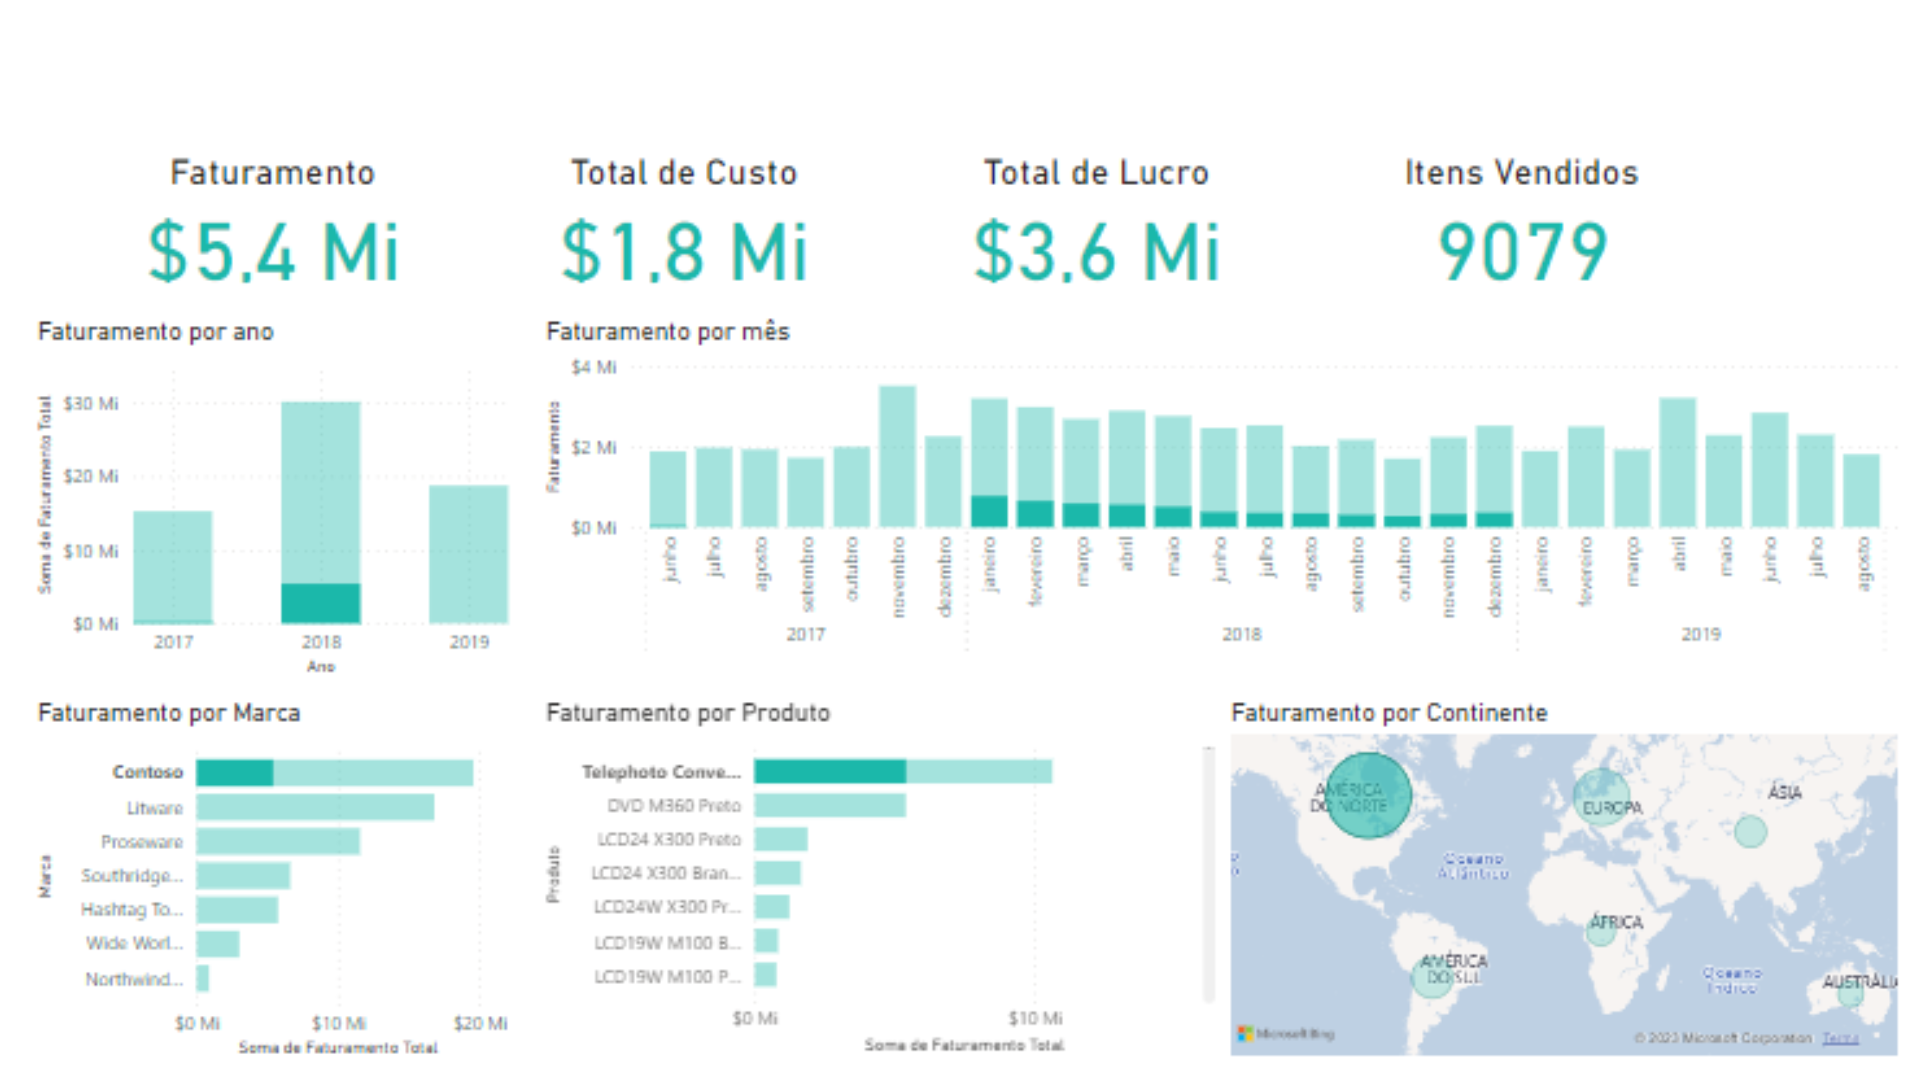

What the dashboard file says about the page in this screenshot:
{"tool":"powerbi","page":{"name":"Página 1","canvas":[1280,720],"ordinal":0},"visuals":[{"type":"card","title":"Faturamento","fields":{"Values":["Sum(Planilha1.Faturamento Total)"]},"box":[106.7,81.7,216.7,95],"z":0},{"type":"card","title":"Total de Custo","fields":{"Values":["Sum(Planilha1.Custo Total)"]},"box":[404.5,84.1,223.9,94.3],"z":1000},{"type":"card","title":"Total de Lucro","fields":{"Values":["Sum(Planilha1.Lucro Total)"]},"box":[716,84,226,94],"z":2000},{"type":"card","title":"Itens Vendidos","fields":{"Values":["Sum(Planilha1.Quantidade Vendida)"]},"box":[1020,83.3,226.7,93.3],"z":3000},{"type":"columnChart","title":"Faturamento por mês","fields":{"Y":["Sum(Planilha1.Faturamento Total)"],"Category":["Planilha1.Data da Venda.Variation.Hierarquia de datas.Ano","Planilha1.Data da Venda.Variation.Hierarquia de datas.Mês"]},"box":[401.1,210.2,845.5,263.6],"z":4000},{"type":"columnChart","title":"Faturamento por ano","fields":{"Category":["Planilha1.Data da Venda.Variation.Hierarquia de datas.Ano"],"Y":["Sum(Planilha1.Faturamento Total)"]},"box":[39.8,210.2,325,244.3],"z":5000},{"type":"barChart","title":"Faturamento por Marca","fields":{"Category":["Planilha1.Marca"],"Y":["Sum(Planilha1.Faturamento Total)"]},"box":[39.8,471.6,325,242],"z":6000},{"type":"map","title":"Faturamento por Continente","fields":{"Category":["Planilha1.Continente"],"Size":["Sum(Planilha1.Faturamento Total)"]},"box":[854,478,396,224],"z":6001},{"type":"barChart","title":"Faturamento por Produto","fields":{"Category":["Planilha1.Produto"],"Y":["Sum(Planilha1.Faturamento Total)"]},"box":[415.9,473.9,404.5,242],"z":6002}]}

Visuals, with their boxes in screenshot pixels (x1, y1, x2, y2), scaled from the page's 1280x720 canvas onto the 1920x1080 screenshot:
"Faturamento" card: bbox(160, 123, 485, 265)
"Total de Custo" card: bbox(607, 126, 943, 268)
"Total de Lucro" card: bbox(1074, 126, 1413, 267)
"Itens Vendidos" card: bbox(1530, 125, 1870, 265)
"Faturamento por mês" columnChart: bbox(602, 315, 1870, 711)
"Faturamento por ano" columnChart: bbox(60, 315, 547, 682)
"Faturamento por Marca" barChart: bbox(60, 707, 547, 1070)
"Faturamento por Continente" map: bbox(1281, 717, 1875, 1053)
"Faturamento por Produto" barChart: bbox(624, 711, 1231, 1074)
